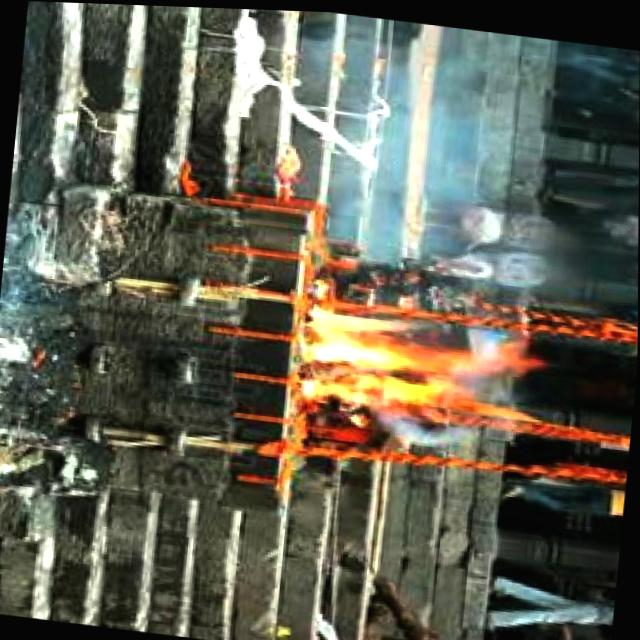Fire: (290, 294, 520, 427)
